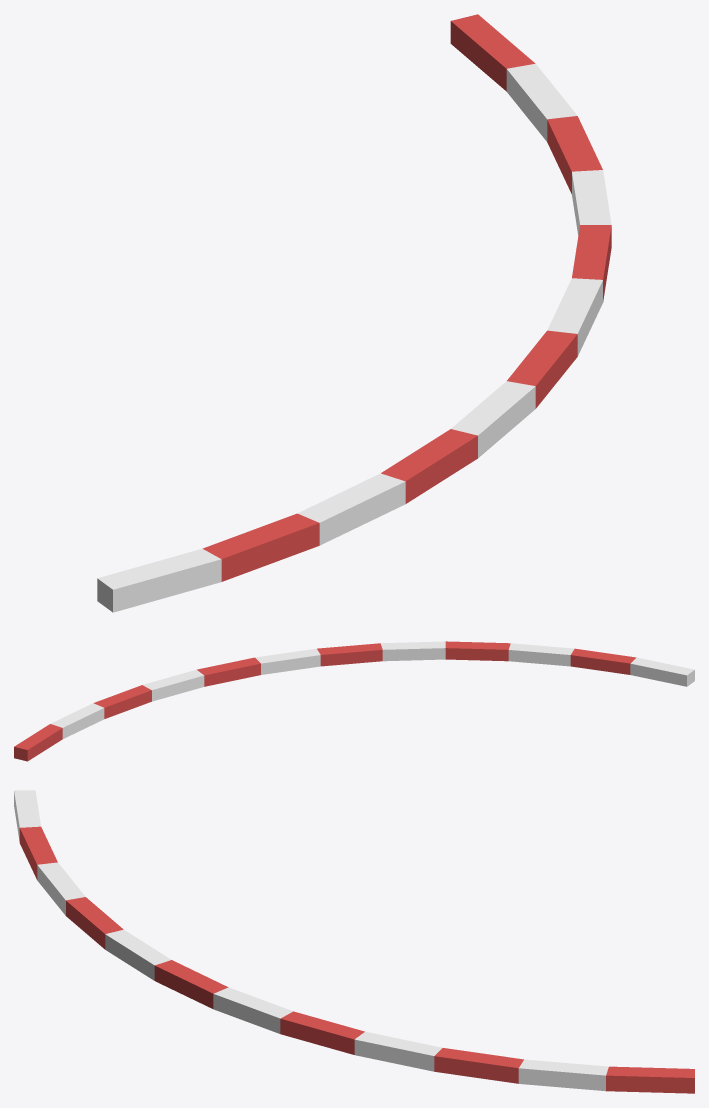
Rendered from roadCornerSmallWall.obj.
3 renders of one model, top to bottom at view 1: azimuth 30°, elevation 25°; view 2: azimuth 150°, elevation 25°; view 3: azimuth 270°, elevation 25°, orthographic. The views are drawn at different scales.
Parts seen in each view (by area): view 1: roadCornerSmallWall; view 2: roadCornerSmallWall; view 3: roadCornerSmallWall.
Part boxes in pixels (<box>): roadCornerSmallWall: <box>97,14,611,612</box>; roadCornerSmallWall: <box>14,641,694,761</box>; roadCornerSmallWall: <box>14,790,694,1093</box>.
Size of the model in its own units: 1.58 by 0.04 by 1.58.
